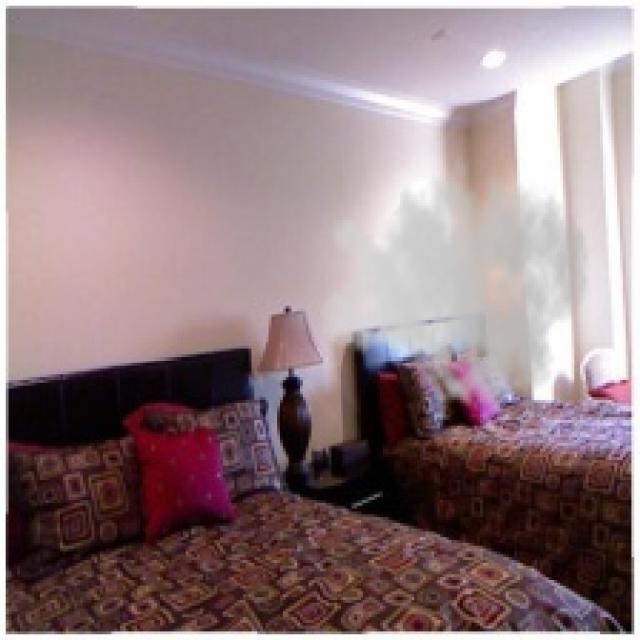smoke: (317, 140, 592, 417)
